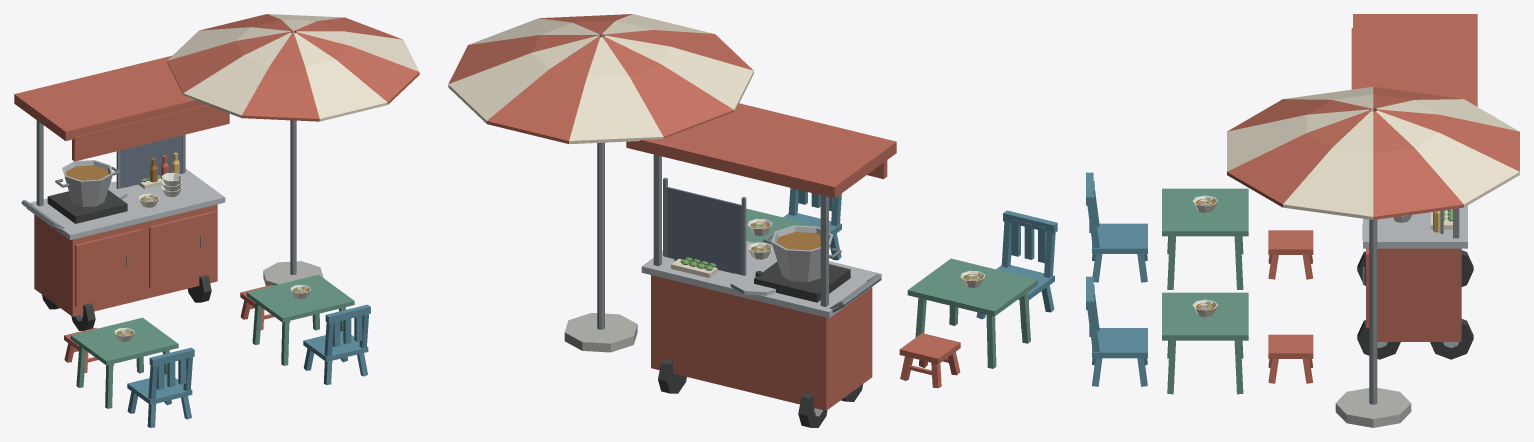
The model's file is HuTieuSpace.glb.
3 renders of one model, left to right at view 1: azimuth 30°, elevation 25°; view 2: azimuth 150°, elevation 25°; view 3: azimuth 270°, elevation 25°, orthographic. The views are drawn at different scales.
Visible parts, largest first — view 1: ST_HuTieuCart_ST_red.001, ST_StreetUmbrella_ST_red.001, ST_StreetUmbrella_ST_cream.001, ST_HuTieuCart_ST_steel.001, ST_PlasticTableLow_ST_plastic_green.001, ST_PlasticTableLow_ST_plastic_green.002, ST_PlasticChairLow_ST_plastic_blue.001, ST_PlasticChairLow_ST_plastic_blue.002, ST_HuTieuCart_ST_black.001, ST_Prep_Glass.001, ST_HuTieuCart_PBK_Indochine_metal.001, ST_StreetUmbrella_PBK_Indochine_metal.001 (+5 smaller); view 2: ST_HuTieuCart_ST_red.001, ST_StreetUmbrella_ST_cream.001, ST_StreetUmbrella_ST_red.001, ST_HuTieuCart_ST_steel.001, ST_PlasticTableLow_ST_plastic_green.001, ST_Prep_Glass.001, ST_HuTieuCart_PBK_Indochine_metal.001, ST_PlasticChairLow_ST_plastic_blue.001, ST_HuTieuCart_ST_black.001, ST_Umbrella_Base.001, ST_PlasticStoolLow_ST_plastic_red.001, ST_StreetUmbrella_PBK_Indochine_metal.001 (+3 smaller); view 3: ST_HuTieuCart_ST_red.001, ST_StreetUmbrella_ST_cream.001, ST_StreetUmbrella_ST_red.001, ST_PlasticTableLow_ST_plastic_green.002, ST_PlasticTableLow_ST_plastic_green.001, ST_HuTieuCart_ST_steel.001, ST_PlasticChairLow_ST_plastic_blue.001, ST_PlasticChairLow_ST_plastic_blue.002, ST_Umbrella_Base.001, ST_HuTieuCart_ST_black.001, ST_StreetUmbrella_PBK_Indochine_metal.001, ST_PlasticStoolLow_ST_plastic_red.002 (+2 smaller).
Boxes of the visible parts, x1,y1,x2,y2 form: ST_HuTieuCart_ST_red.001: [14, 56, 229, 316]; ST_StreetUmbrella_ST_red.001: [167, 14, 419, 121]; ST_StreetUmbrella_ST_cream.001: [167, 14, 419, 121]; ST_HuTieuCart_ST_steel.001: [26, 160, 225, 321]; ST_PlasticTableLow_ST_plastic_green.001: [70, 317, 178, 408]; ST_PlasticTableLow_ST_plastic_green.002: [246, 274, 354, 365]; ST_PlasticChairLow_ST_plastic_blue.001: [127, 347, 194, 427]; ST_PlasticChairLow_ST_plastic_blue.002: [303, 304, 370, 384]; ST_HuTieuCart_ST_black.001: [42, 190, 211, 330]; ST_Prep_Glass.001: [120, 135, 183, 188]; ST_HuTieuCart_PBK_Indochine_metal.001: [21, 120, 202, 267]; ST_StreetUmbrella_PBK_Indochine_metal.001: [290, 33, 296, 274]; ST_HuTieuCart_ST_red.001: [626, 103, 896, 410]; ST_StreetUmbrella_ST_cream.001: [448, 14, 753, 144]; ST_StreetUmbrella_ST_red.001: [448, 14, 753, 143]; ST_HuTieuCart_ST_steel.001: [641, 225, 881, 416]; ST_PlasticTableLow_ST_plastic_green.001: [907, 258, 1037, 368]; ST_Prep_Glass.001: [665, 187, 741, 274]; ST_HuTieuCart_PBK_Indochine_metal.001: [653, 154, 881, 312]; ST_PlasticChairLow_ST_plastic_blue.001: [976, 210, 1057, 328]; ST_HuTieuCart_ST_black.001: [658, 261, 862, 427]; ST_Umbrella_Base.001: [564, 313, 637, 352]; ST_PlasticStoolLow_ST_plastic_red.001: [899, 333, 960, 388]; ST_StreetUmbrella_PBK_Indochine_metal.001: [597, 37, 604, 329]; ST_HuTieuCart_ST_red.001: [1351, 14, 1477, 341]; ST_StreetUmbrella_ST_cream.001: [1227, 86, 1519, 219]; ST_StreetUmbrella_ST_red.001: [1227, 86, 1519, 219]; ST_PlasticTableLow_ST_plastic_green.002: [1162, 292, 1248, 394]; ST_PlasticTableLow_ST_plastic_green.001: [1162, 188, 1248, 289]; ST_HuTieuCart_ST_steel.001: [1363, 205, 1467, 347]; ST_PlasticChairLow_ST_plastic_blue.001: [1086, 172, 1147, 282]; ST_PlasticChairLow_ST_plastic_blue.002: [1086, 276, 1147, 386]; ST_Umbrella_Base.001: [1335, 388, 1411, 427]; ST_HuTieuCart_ST_black.001: [1357, 250, 1473, 359]; ST_StreetUmbrella_PBK_Indochine_metal.001: [1369, 111, 1377, 404]; ST_PlasticStoolLow_ST_plastic_red.002: [1268, 334, 1313, 383].
Bounding box in the file's own units: 3.84 × 2.38 × 3.1.
